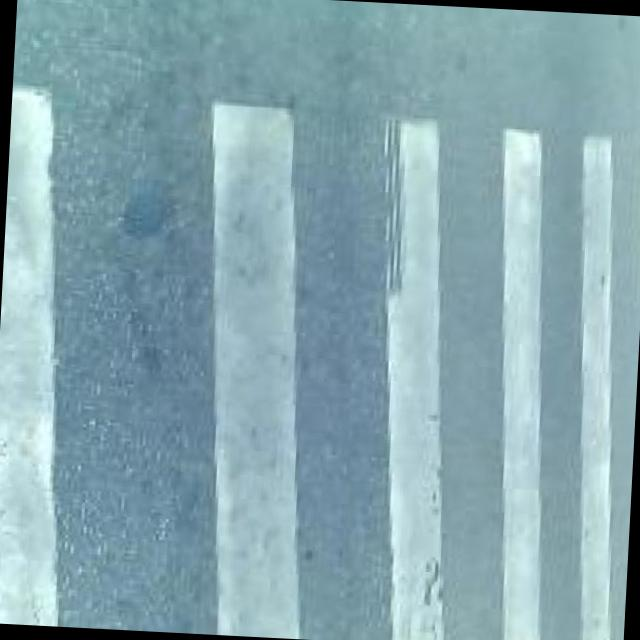zebra: (0, 87, 640, 640)
